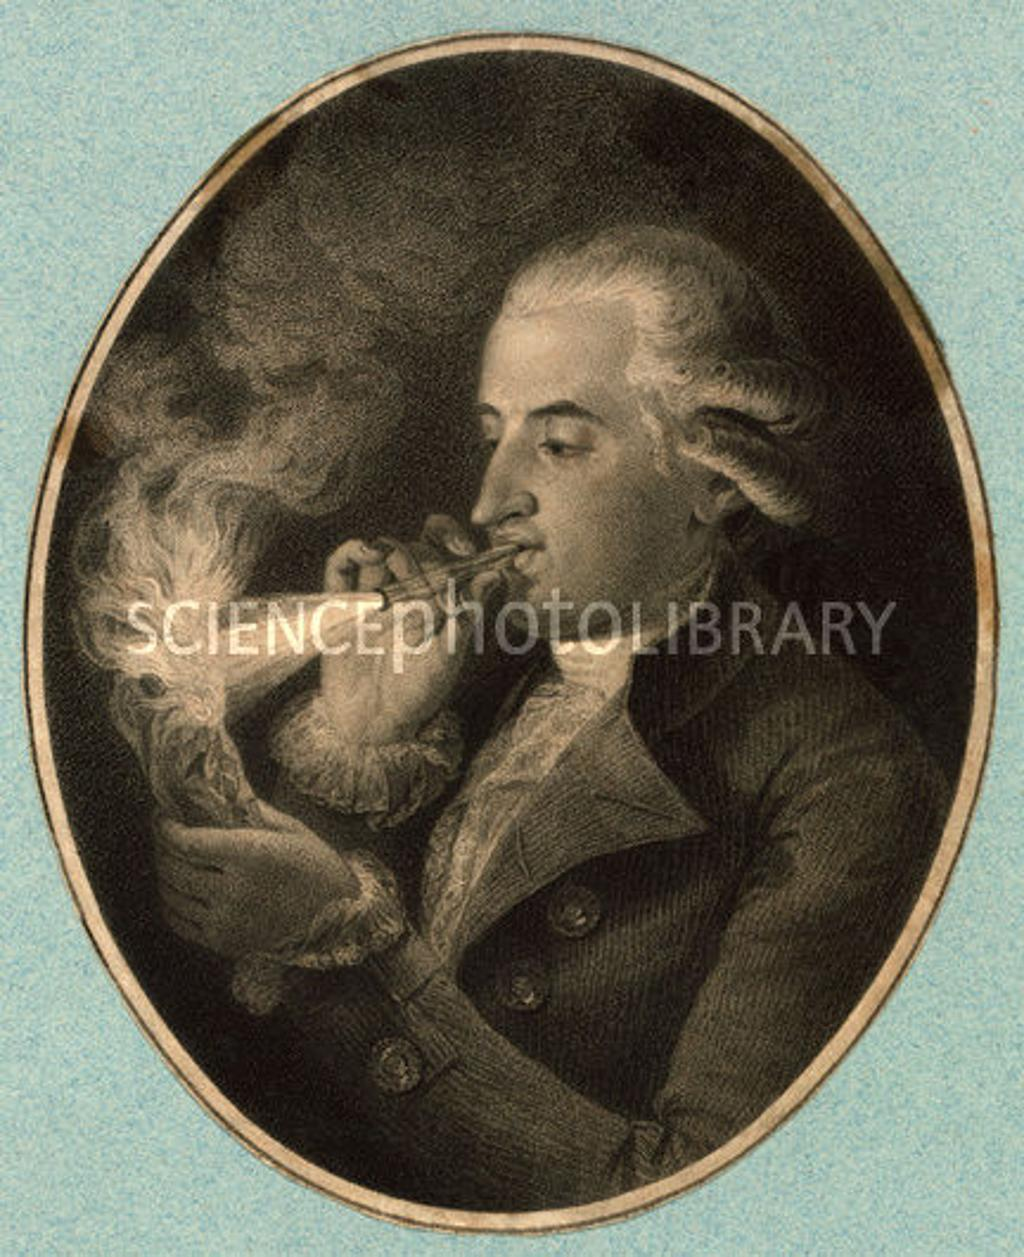face: (468, 296, 701, 635)
